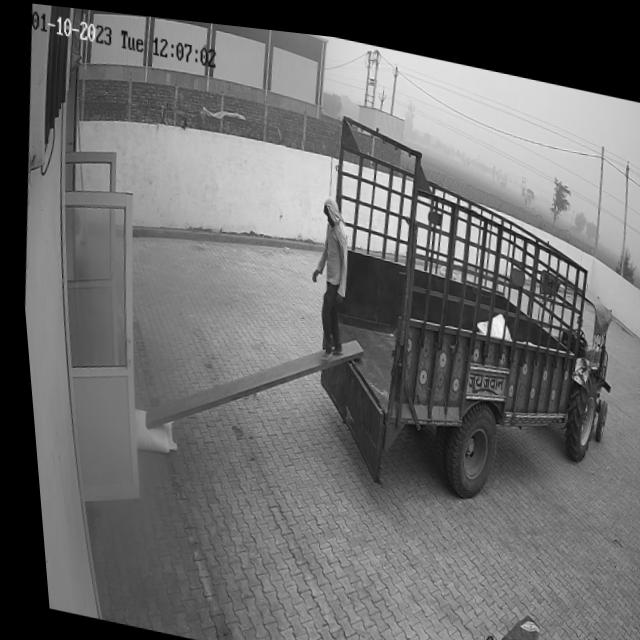sack: (123, 405, 171, 454)
